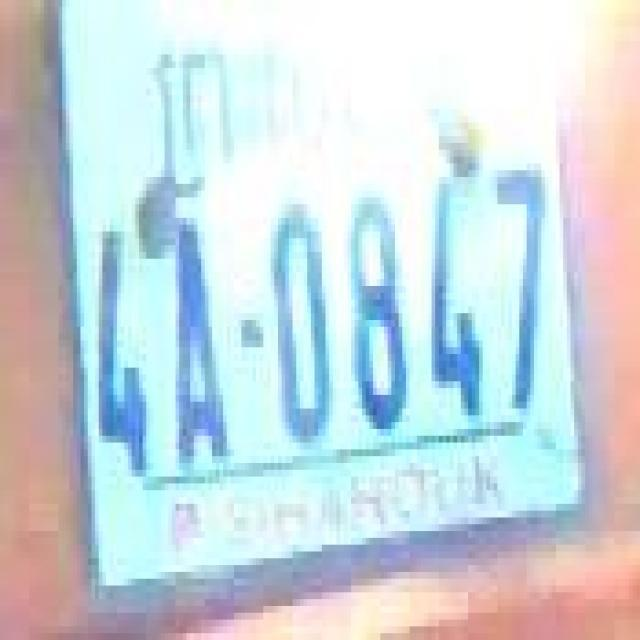Preah_Sihanouk: (154, 21, 438, 199)
